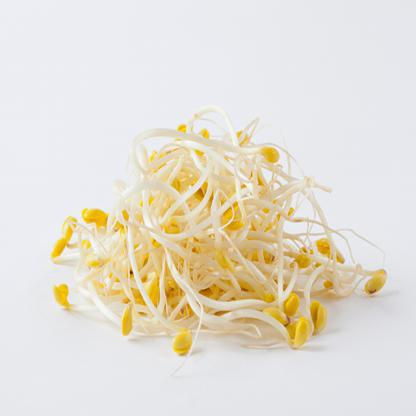bean sprouts: (78, 106, 392, 358)
